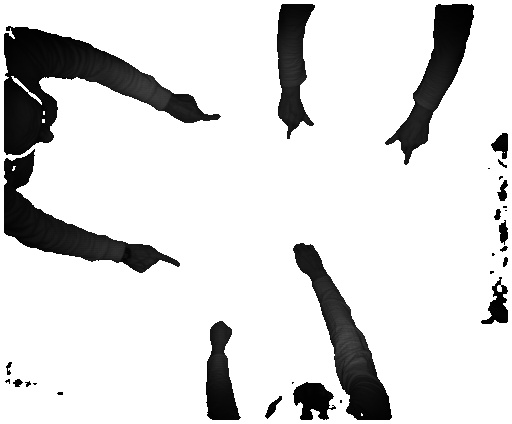fist: (208, 320, 231, 350)
hand: (272, 92, 319, 143), (125, 240, 183, 279), (384, 120, 431, 167), (174, 92, 223, 127), (288, 240, 325, 278)
